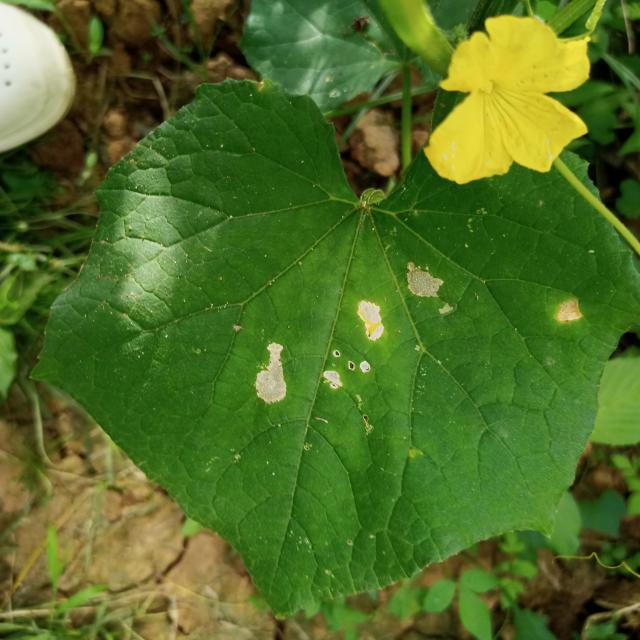disease_cucumber: (255, 261, 453, 406), (556, 297, 582, 326)
